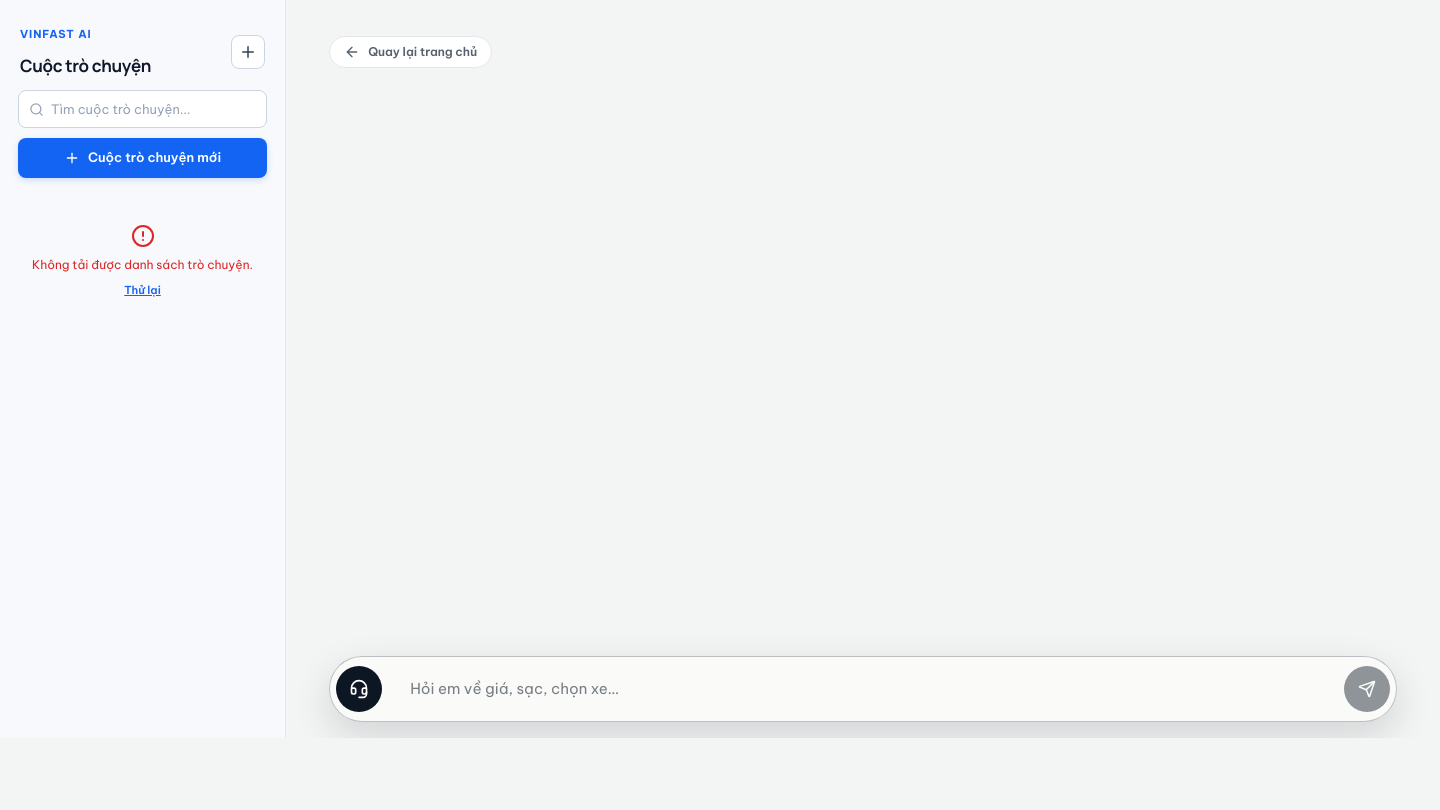
Test: ConsultationFlow retry identity › clears pending after terminal 4xx
Type "Tin đầu" into the field named "Tin nhắn gửi trợ lý" at (873, 689), box x1=410 y1=663 x2=1336 y2=715
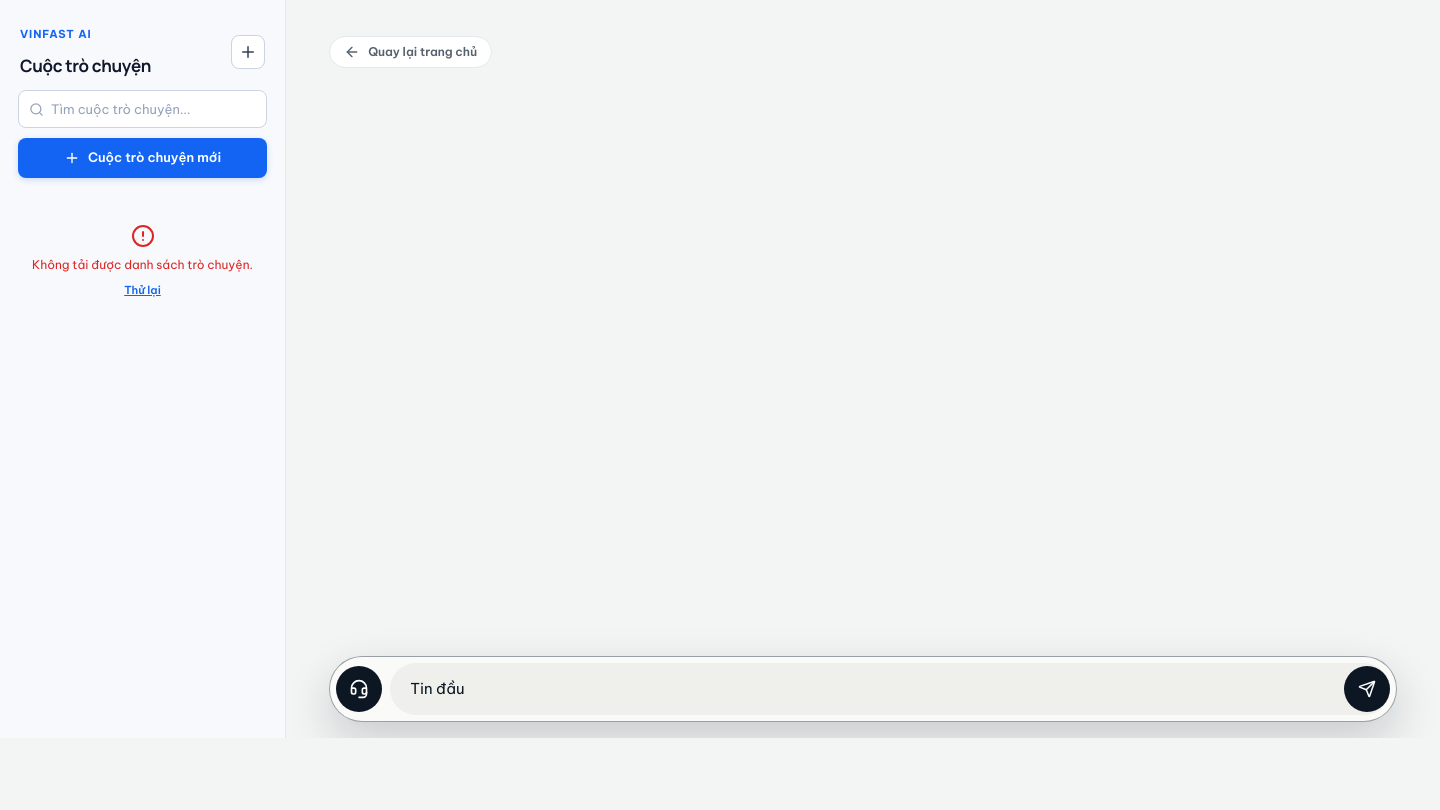
Click the button named "Gửi" at (1367, 689), box x1=1344 y1=666 x2=1390 y2=712
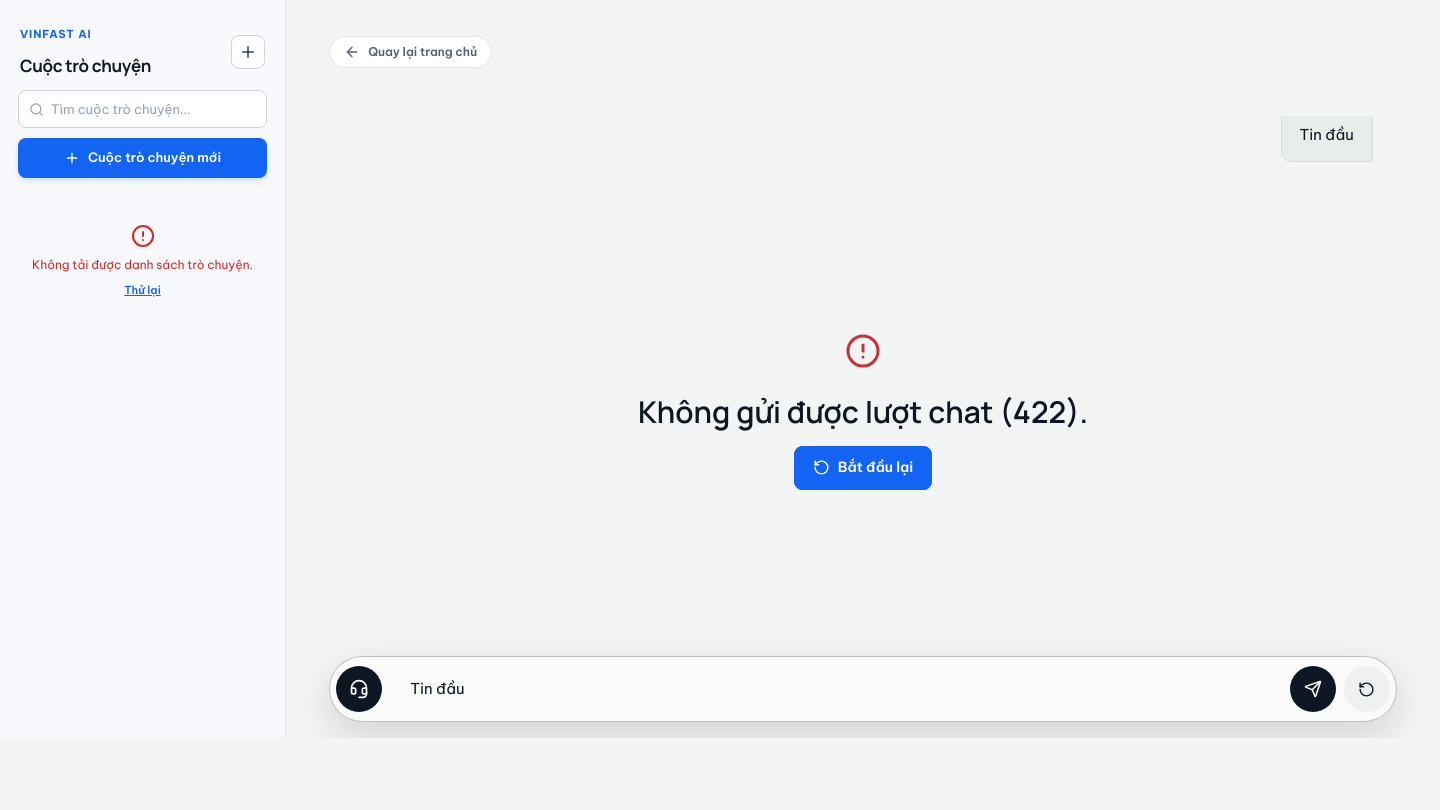
Expected: the heading "Không gửi được lượt chat (422)." is shown, x1=638 y1=389 x2=1088 y2=434
Replace the text in the field named "Tin nhắn gửi trợ lý" with "Tin mới" at (846, 689), box x1=410 y1=663 x2=1282 y2=715
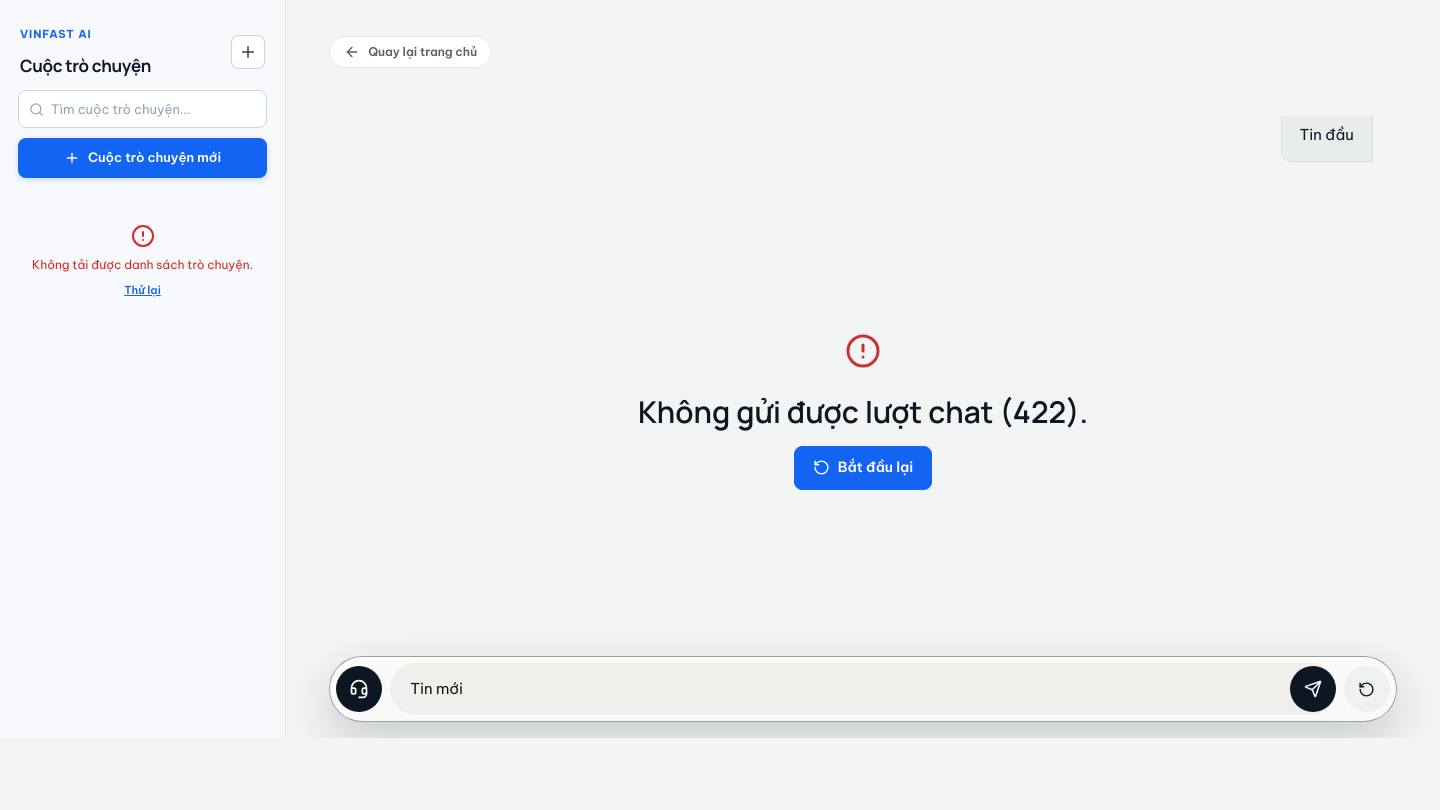
Click the button named "Gửi" at (1313, 689), box x1=1290 y1=666 x2=1336 y2=712
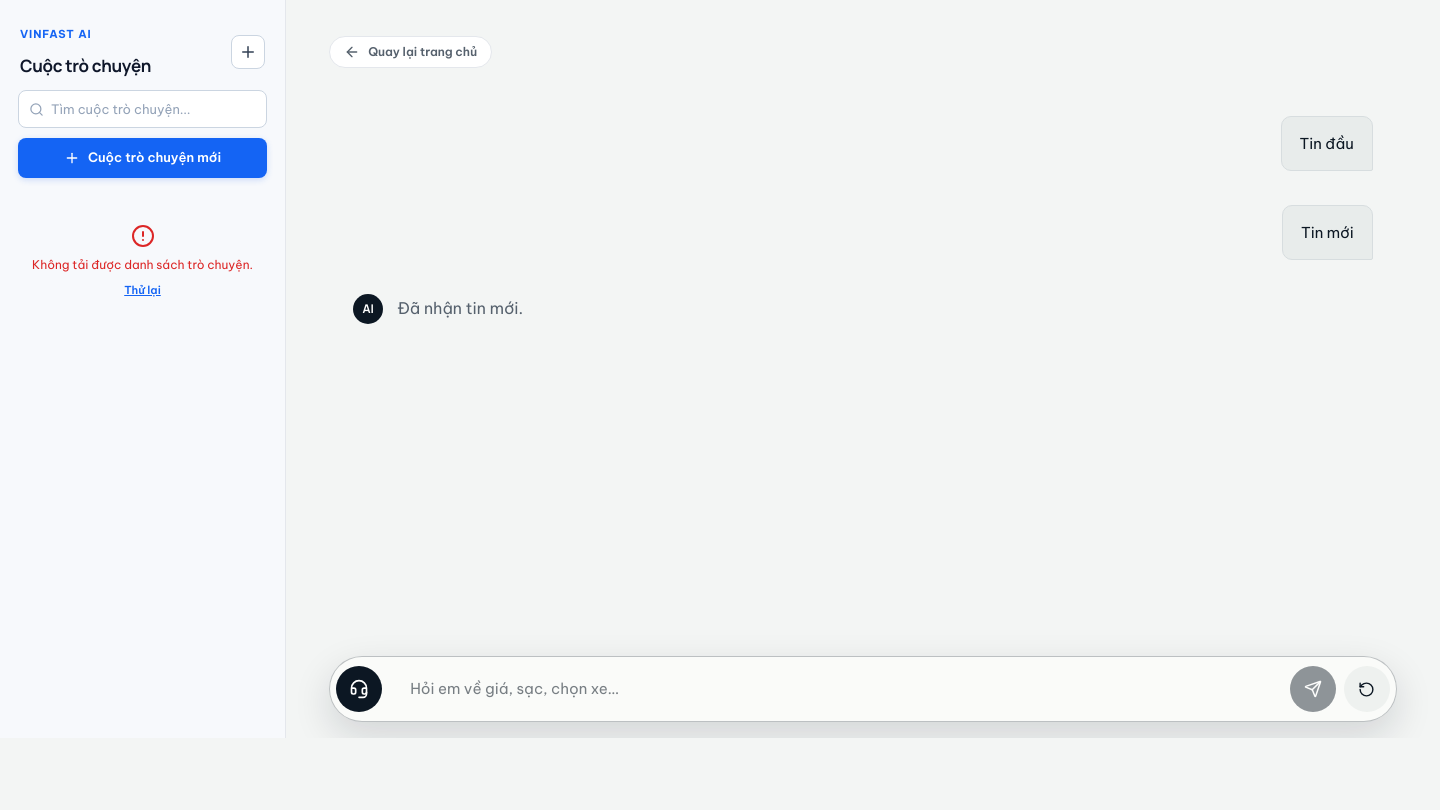
Expected: the text "Đã nhận tin mới." is shown, x1=397 y1=298 x2=523 y2=318
